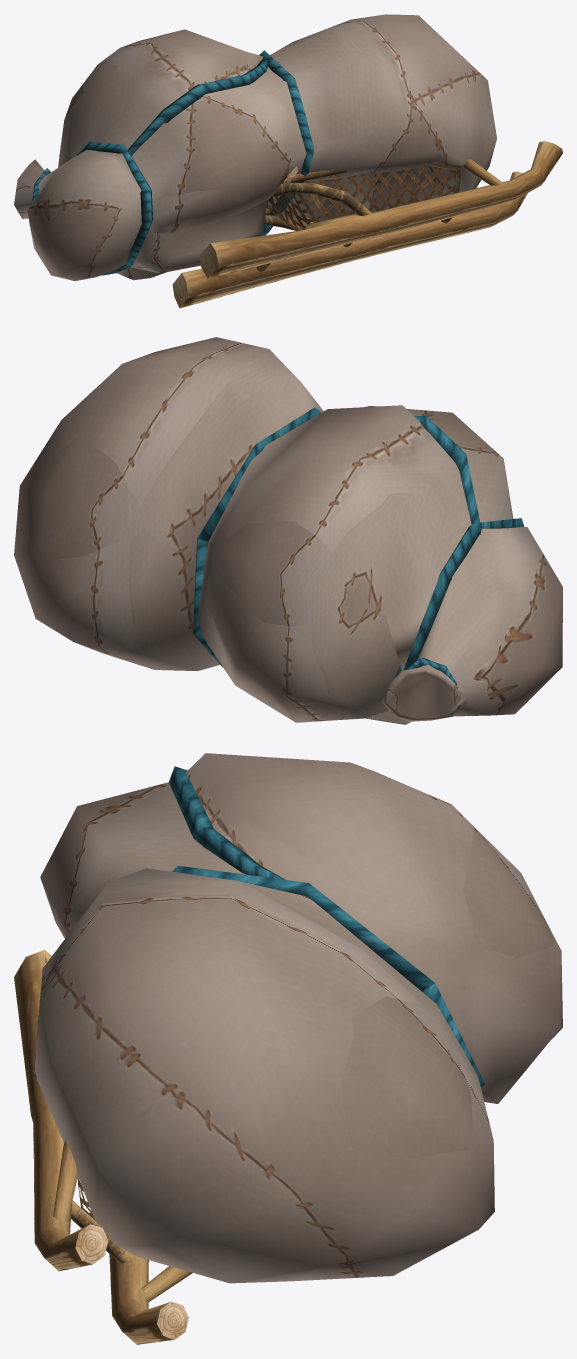
File: wt_sled_01packed_wreckeda.obj
3 views of the same model, one above another, from view 1: azimuth 30°, elevation 25°; view 2: azimuth 150°, elevation 25°; view 3: azimuth 270°, elevation 25° (orthographic). The views are drawn at different scales.
Visible parts, largest first — view 1: Geoset1, Geoset2, Geoset0; view 2: Geoset1, Geoset0; view 3: Geoset1, Geoset2, Geoset0.
Boxes of the visible parts, <box> form: Geoset1: <box>14,14,496,281</box>; Geoset2: <box>172,141,562,308</box>; Geoset0: <box>32,50,314,275</box>; Geoset1: <box>14,337,562,724</box>; Geoset0: <box>193,407,524,684</box>; Geoset1: <box>33,753,562,1283</box>; Geoset2: <box>14,950,192,1344</box>; Geoset0: <box>169,766,484,1088</box>.
Bounding box in the file's own units: 9.35 × 4.33 × 5.69.
3 materials, 3 textured.
